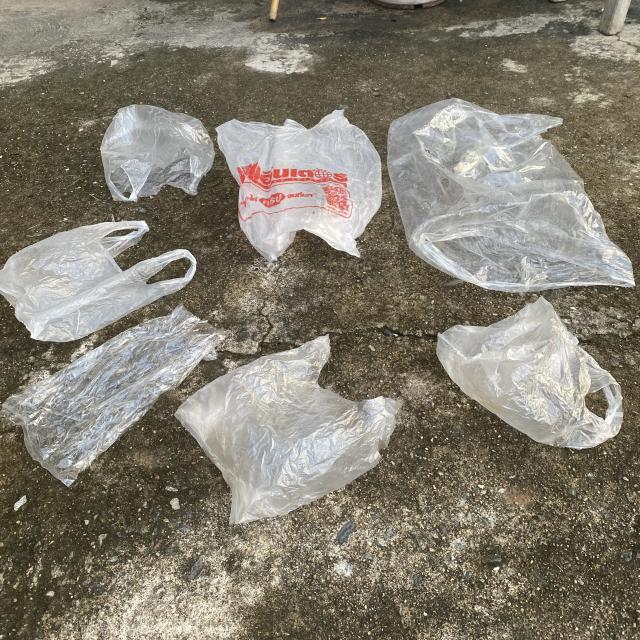Single-layer Plastic: (388, 99, 635, 292), (175, 335, 401, 524), (2, 306, 225, 486), (436, 298, 622, 449), (216, 110, 381, 261), (0, 221, 196, 342), (100, 105, 215, 201)
